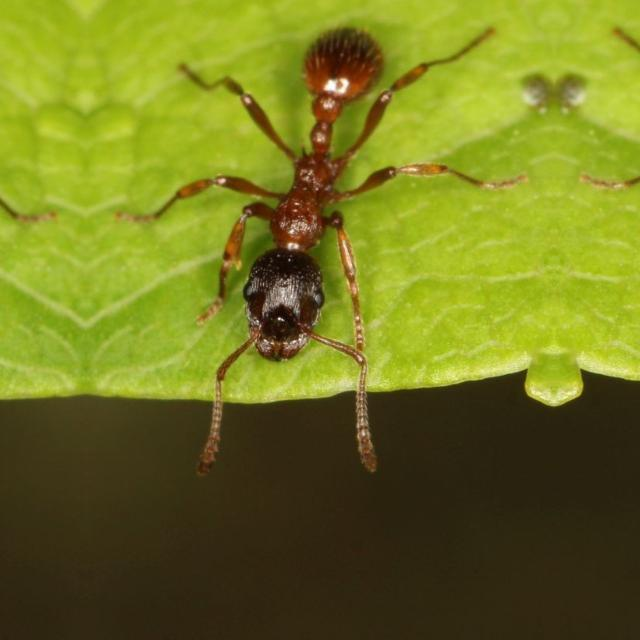Myrmica: (150, 56, 430, 412)
